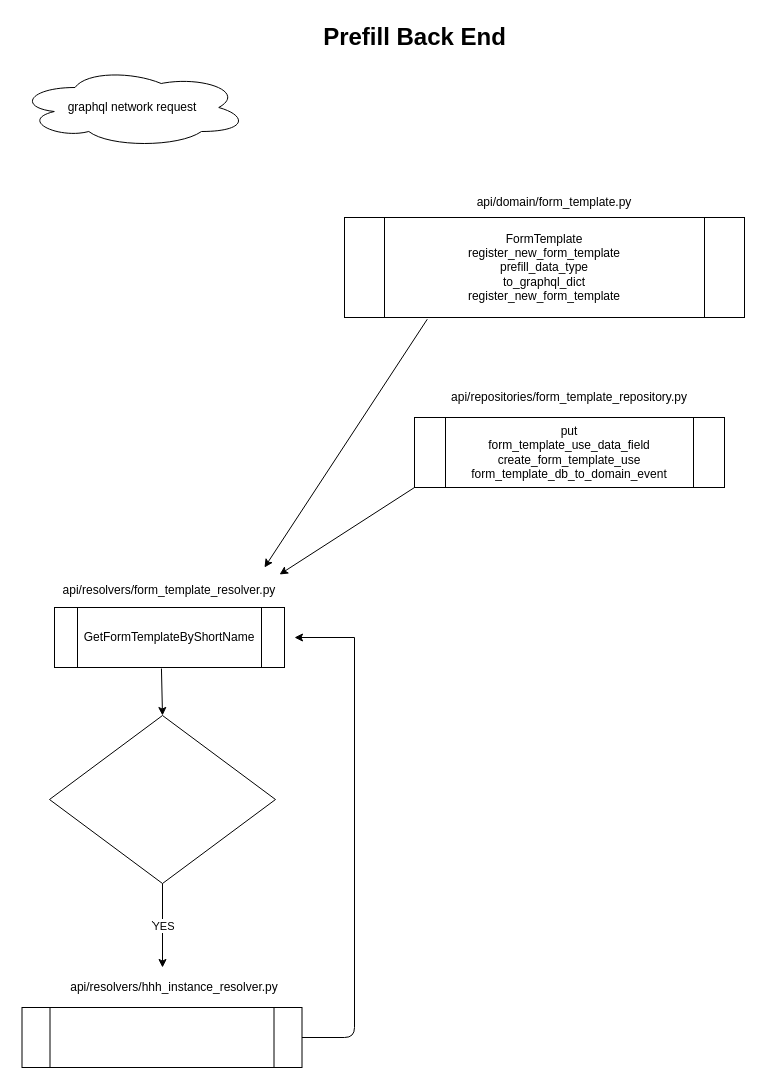
The diagram is 762 pixels wide and 1085 high, and some of its shapes have lost their labels. The shapes that lost their labels are listed below. From the top down, each one's box as (x1, y1, x2, y2) in pixels, then its label:
(48, 714, 276, 884): Does form field contain a value for prefillDataType?
(21, 1006, 302, 1068): run_hhh_prefill_stack
